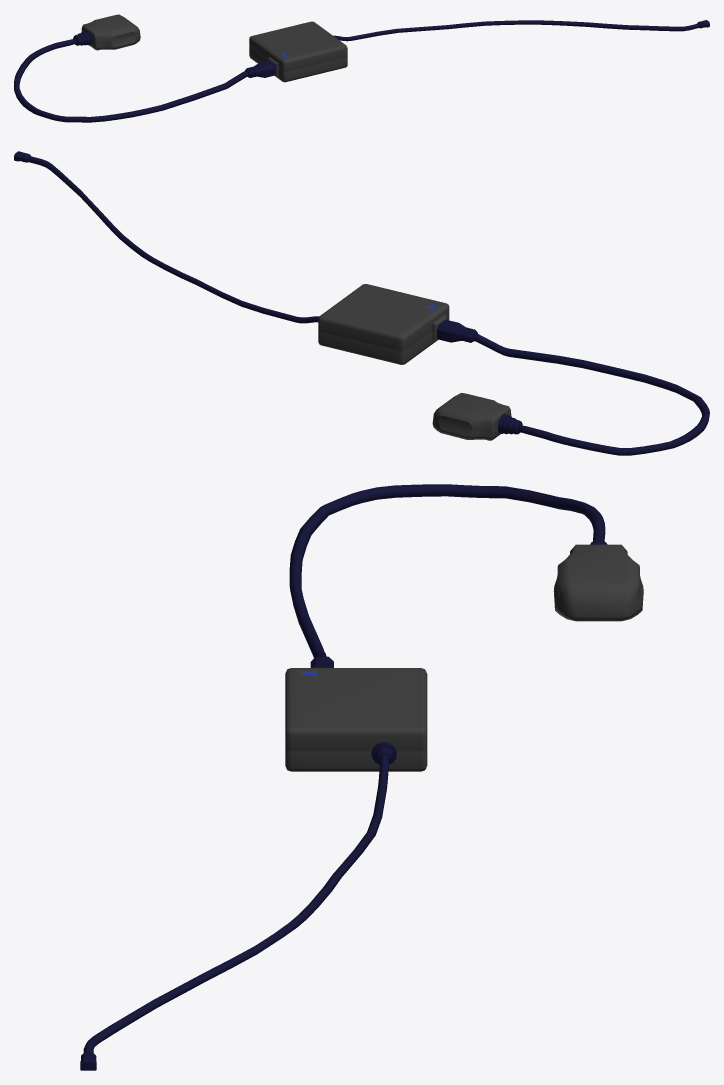
File: PlugCable_03_Mesh.fbx
3 views of the same model, one above another, from view 1: azimuth 30°, elevation 25°; view 2: azimuth 150°, elevation 25°; view 3: azimuth 270°, elevation 25° (orthographic). The views are drawn at different scales.
Visible parts, largest first — view 1: PlugCable_03_Mesh; view 2: PlugCable_03_Mesh; view 3: PlugCable_03_Mesh.
Boxes of the visible parts, box(x1,y1,x2,y2) form: PlugCable_03_Mesh: box(14, 14, 709, 122); PlugCable_03_Mesh: box(14, 151, 709, 455); PlugCable_03_Mesh: box(80, 484, 643, 1070).
Size of the model in its own units: 81.51 by 3.45 by 33.38.
